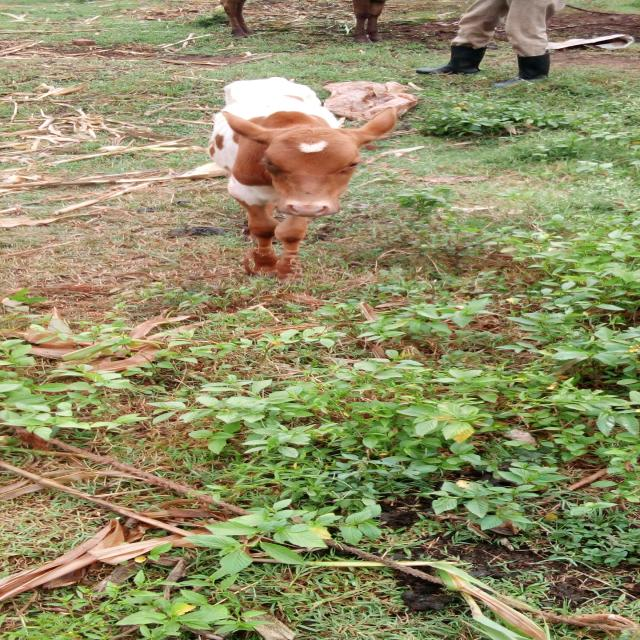Front: (211, 78, 397, 280)
